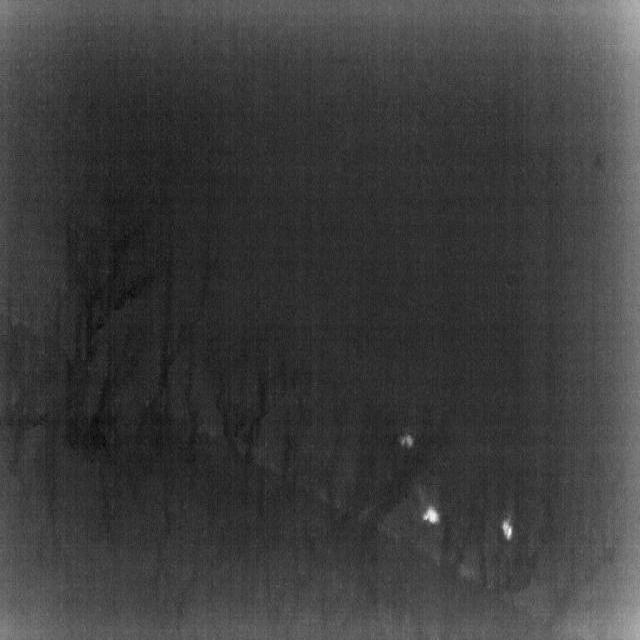deer: (423, 506, 440, 524), (502, 520, 513, 540), (399, 434, 414, 448)
